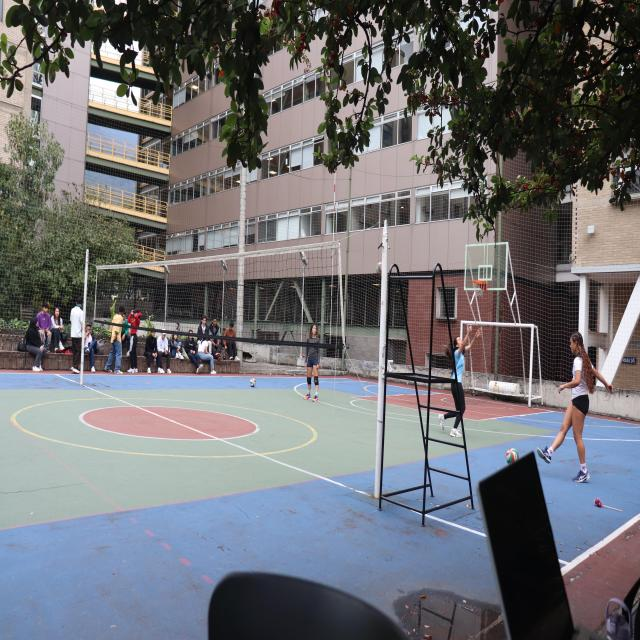volleyball: (506, 448, 520, 466), (377, 263, 382, 276), (250, 378, 256, 387)
